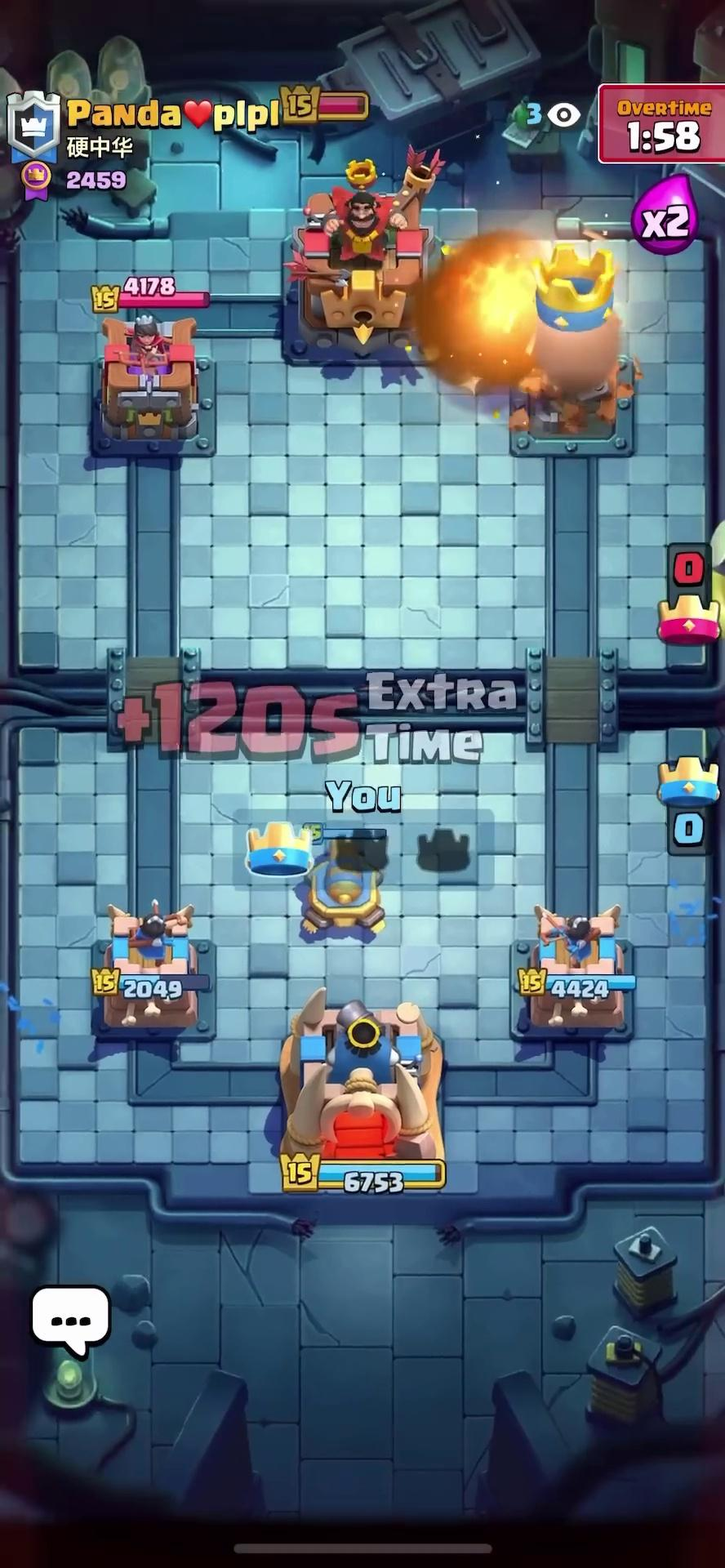cannon: (280, 815, 402, 937)
